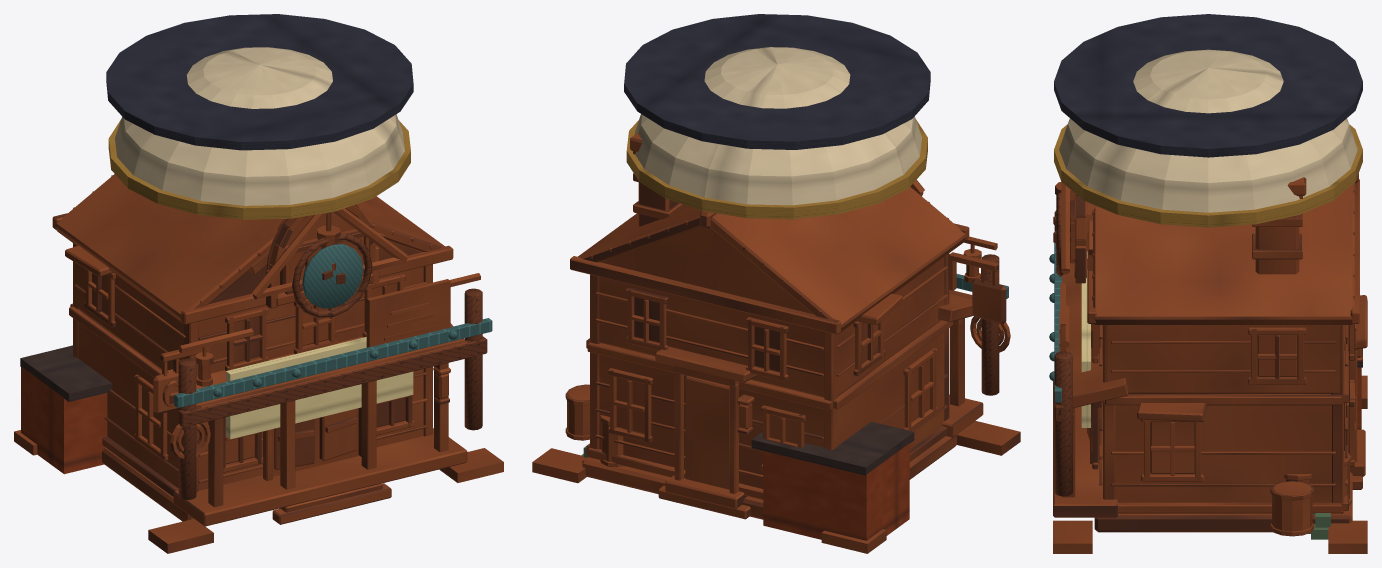
The model's file is tavern.e10.glb.
The picture shows the model from 3 angles, left to right: view 1: azimuth 30°, elevation 25°; view 2: azimuth 150°, elevation 25°; view 3: azimuth 270°, elevation 25°; orthographic projection. The views are drawn at different scales.
Parts seen in each view (by area): view 1: TavernE10LongTableDeck; view 2: TavernE10LongTableDeck; view 3: TavernE10LongTableDeck.
Part boxes in pixels (x1,y1,x2,y2): TavernE10LongTableDeck: (14, 14, 503, 553); TavernE10LongTableDeck: (532, 14, 1020, 553); TavernE10LongTableDeck: (1049, 14, 1367, 553).
Size of the model in its own units: 4.23 by 4.72 by 3.39.
Materials: 1 (1 with a texture image).
